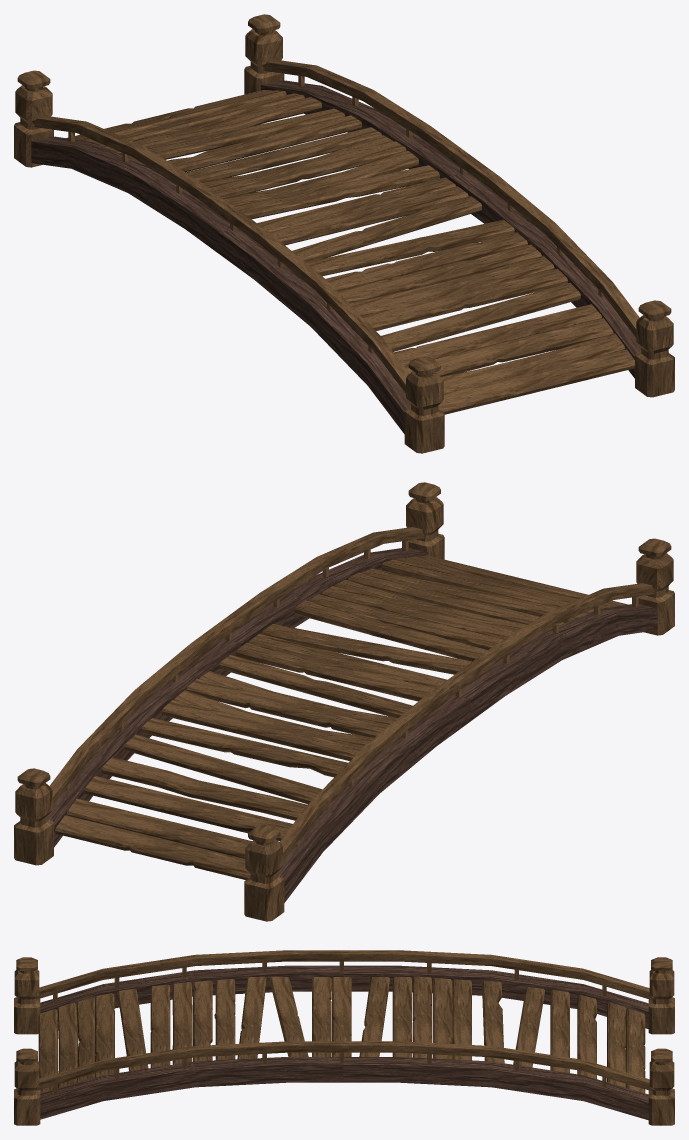
The model's file is Bridge01.glb.
The picture shows the model from 3 angles, top to bottom: view 1: azimuth 30°, elevation 25°; view 2: azimuth 150°, elevation 25°; view 3: azimuth 270°, elevation 25°; orthographic projection. The views are drawn at different scales.
Visible parts, largest first — view 1: Bridge01; view 2: Bridge01; view 3: Bridge01.
Part boxes in pixels (box(x1,y1,x2,y2)): Bridge01: box(14, 14, 674, 453); Bridge01: box(14, 482, 674, 921); Bridge01: box(14, 950, 674, 1125).
Bounding box in the file's own units: 11.02 × 3.84 × 30.07.
3 materials, 3 textured.
